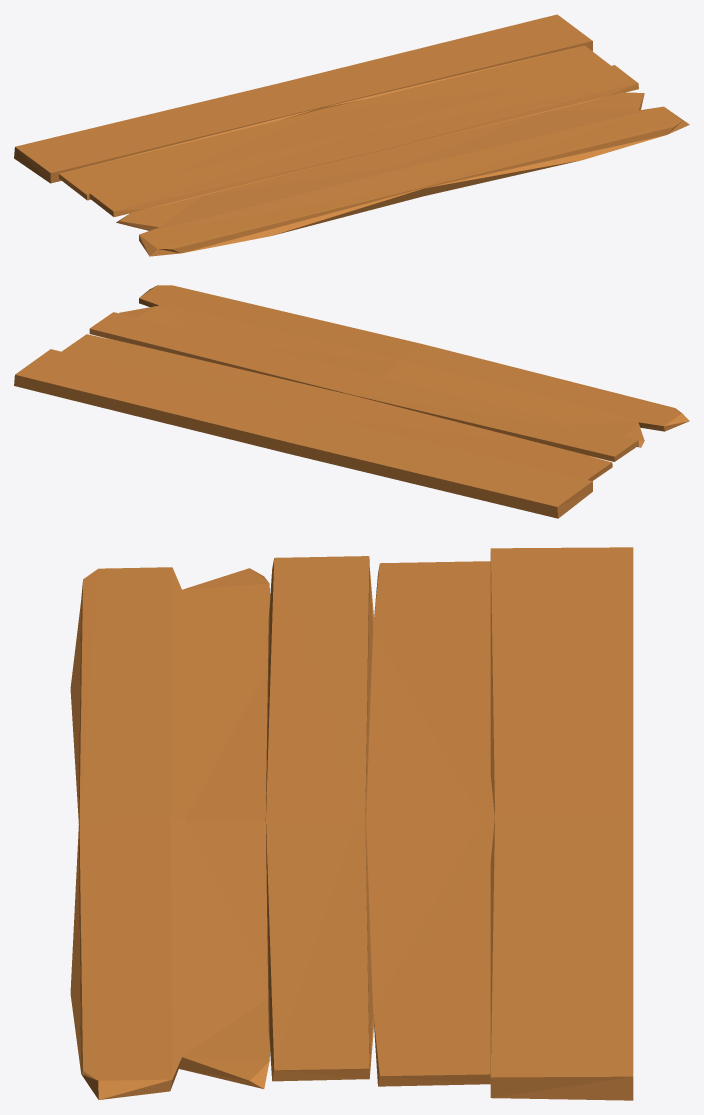
File: Prop_Soft_Timber_Platform_01.FBX
3 renders of one model, top to bottom at view 1: azimuth 30°, elevation 25°; view 2: azimuth 150°, elevation 25°; view 3: azimuth 270°, elevation 25°, orthographic. The views are drawn at different scales.
Visible parts, largest first — view 1: Prop_Soft_Timber_Platform_01; view 2: Prop_Soft_Timber_Platform_01; view 3: Prop_Soft_Timber_Platform_01.
Boxes of the visible parts, x1,y1,x2,y2 form: Prop_Soft_Timber_Platform_01: (14,14,689,256); Prop_Soft_Timber_Platform_01: (14,285,689,518); Prop_Soft_Timber_Platform_01: (70,547,633,1100).
Size of the model in its own units: 6201 by 169 by 2777.
